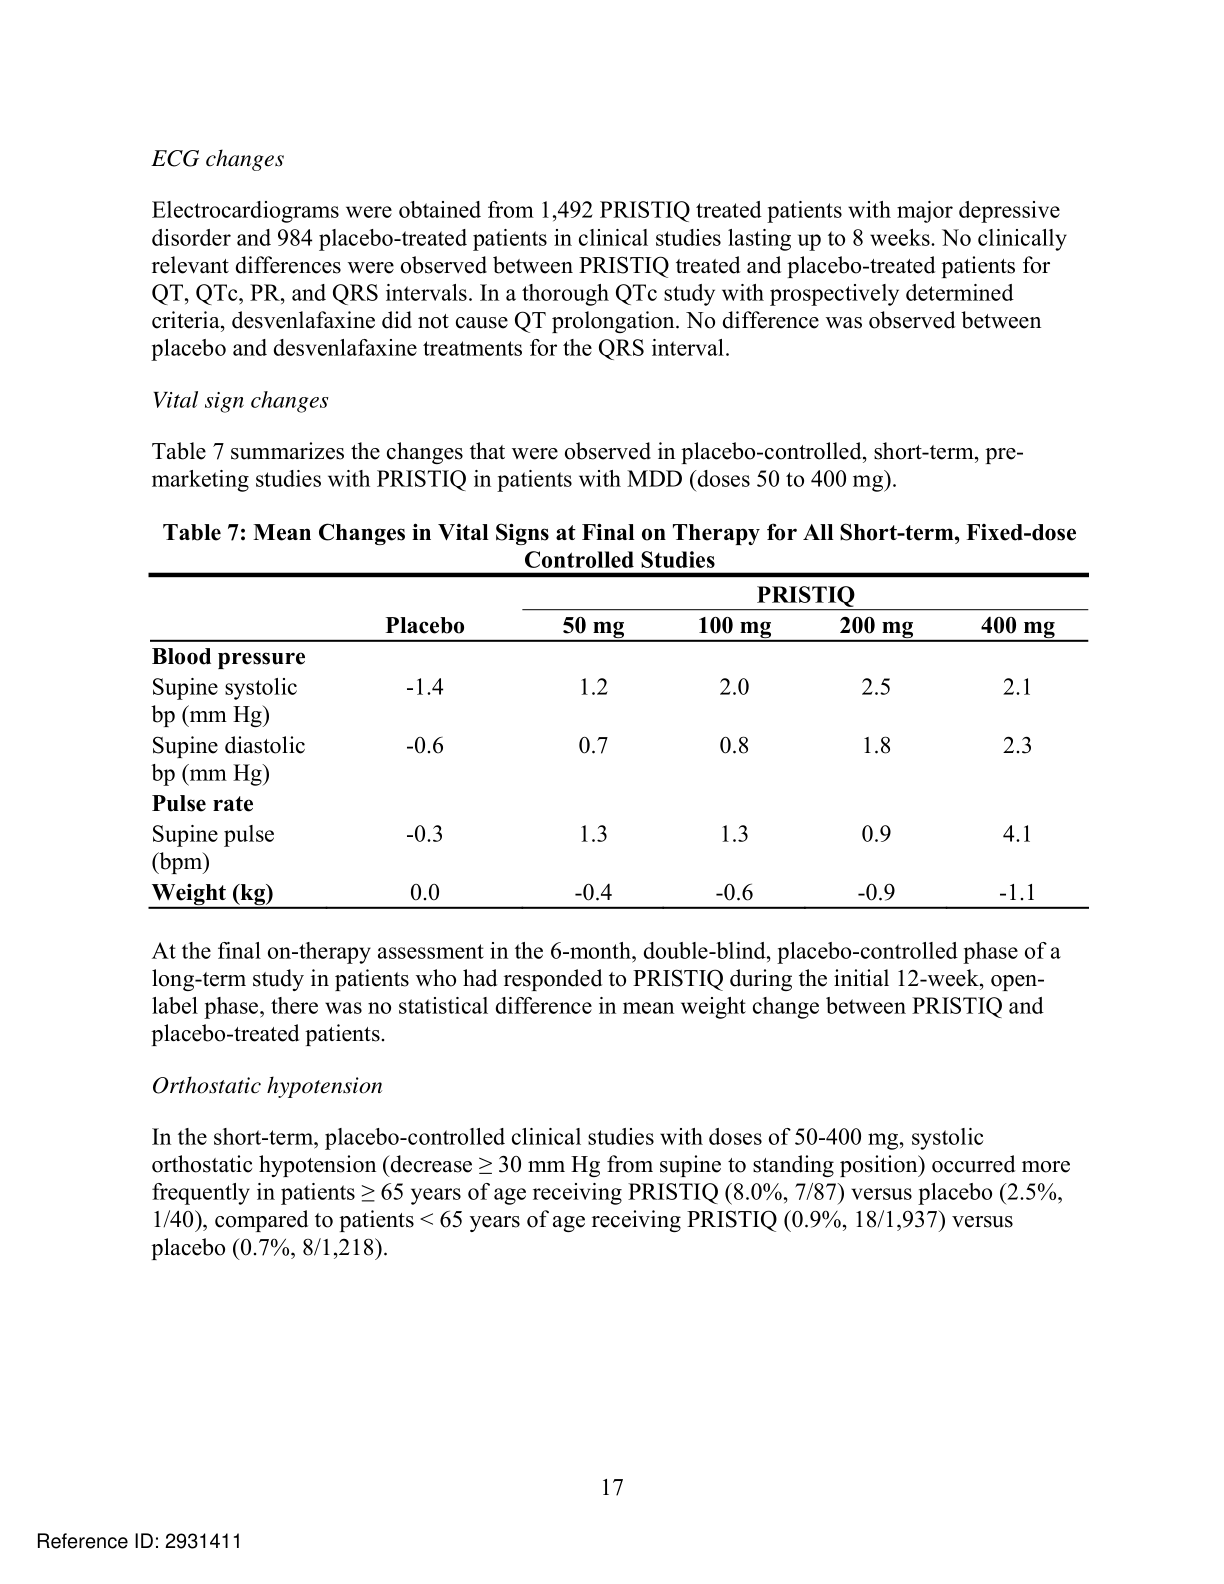partial_lined_merged_cells: (147, 571, 1092, 912)
